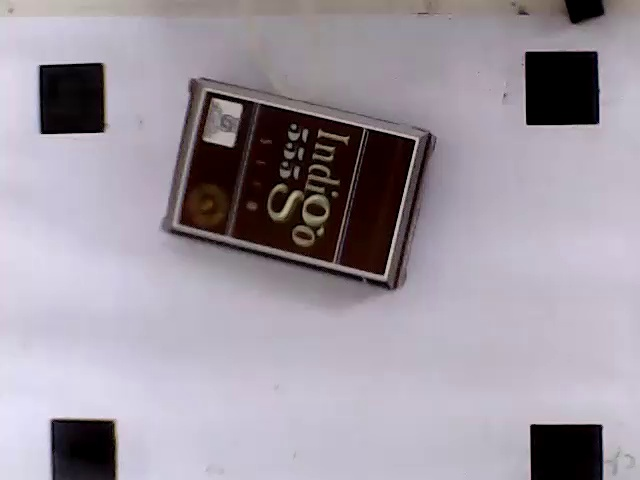BEX: (174, 89, 417, 278)
